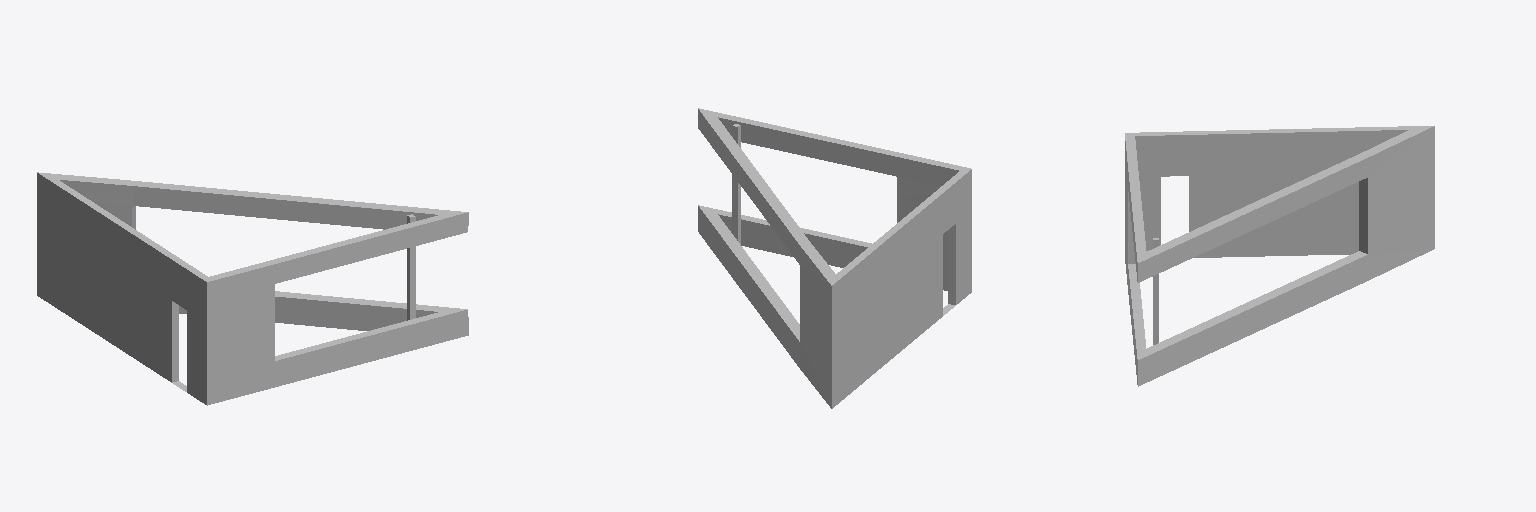
File: diner2LP.obj
The picture shows the model from 3 angles: view 1: azimuth 30°, elevation 25°; view 2: azimuth 150°, elevation 25°; view 3: azimuth 270°, elevation 25°; orthographic projection.
Parts seen in each view (by area): view 1: LP_Plane; view 2: LP_Plane; view 3: LP_Plane.
Boxes of the visible parts, <box> form: LP_Plane: <box>37,172,468,405</box>; LP_Plane: <box>698,108,971,408</box>; LP_Plane: <box>1125,126,1434,386</box>.
Size of the model in its own units: 0.8942 by 0.3784 by 0.8506.